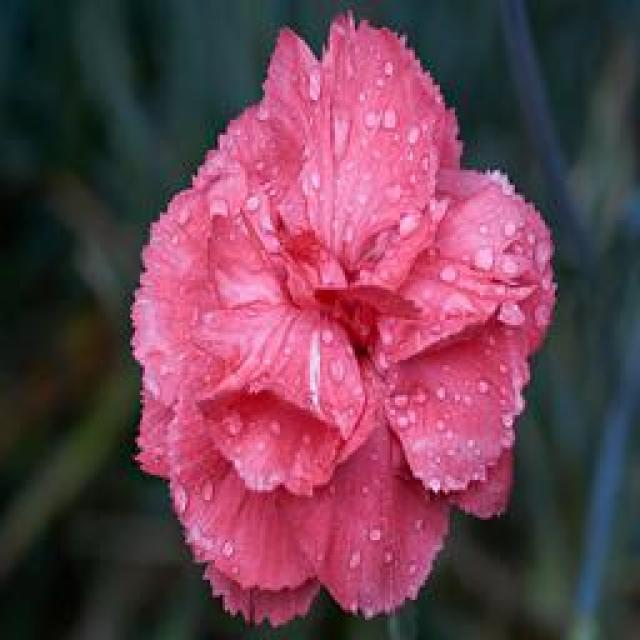carnation: (121, 12, 614, 640)
